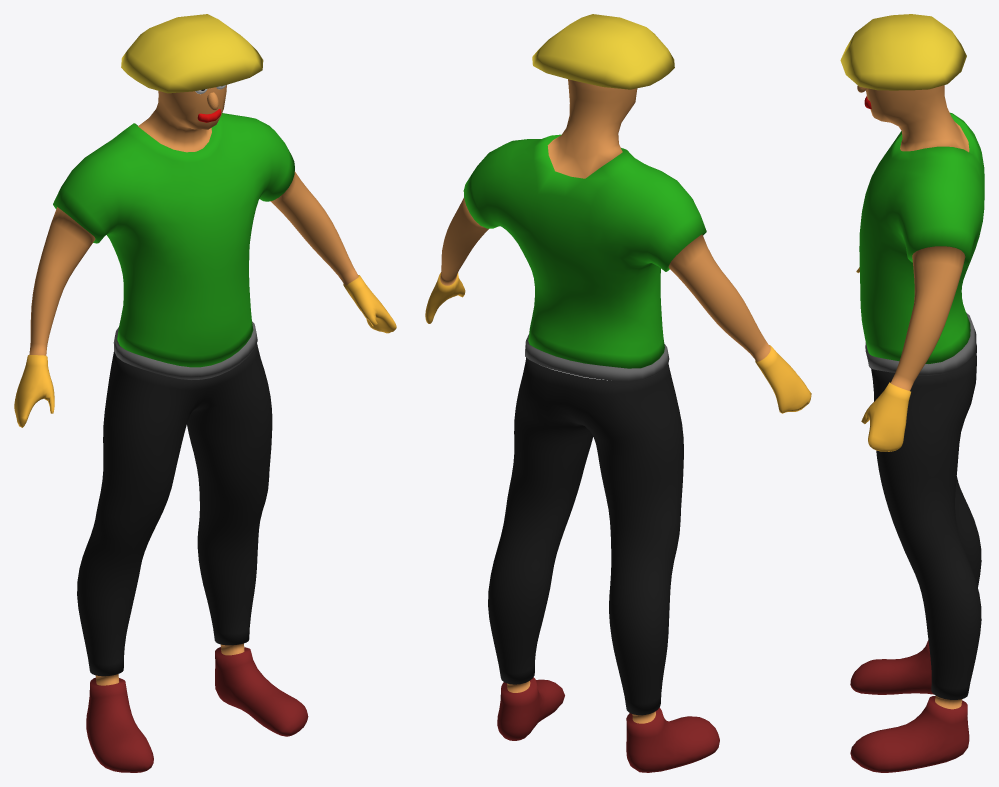
The model's file is Karakter4.fbx.
3 renders of one model, left to right at view 1: azimuth 30°, elevation 25°; view 2: azimuth 150°, elevation 25°; view 3: azimuth 270°, elevation 25°, orthographic.
Parts seen in each view (by area): view 1: male_zbrush; view 2: male_zbrush; view 3: male_zbrush.
Part boxes in pixels (left/top/right/bottom): male_zbrush: left=14, top=14, right=396, bottom=772; male_zbrush: left=425, top=14, right=811, bottom=772; male_zbrush: left=840, top=14, right=984, bottom=772.
Bounding box in the file's own units: 157 × 285 × 52.81.
1 material, 1 textured.
